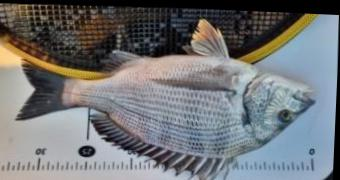fish: (15, 15, 317, 180)
